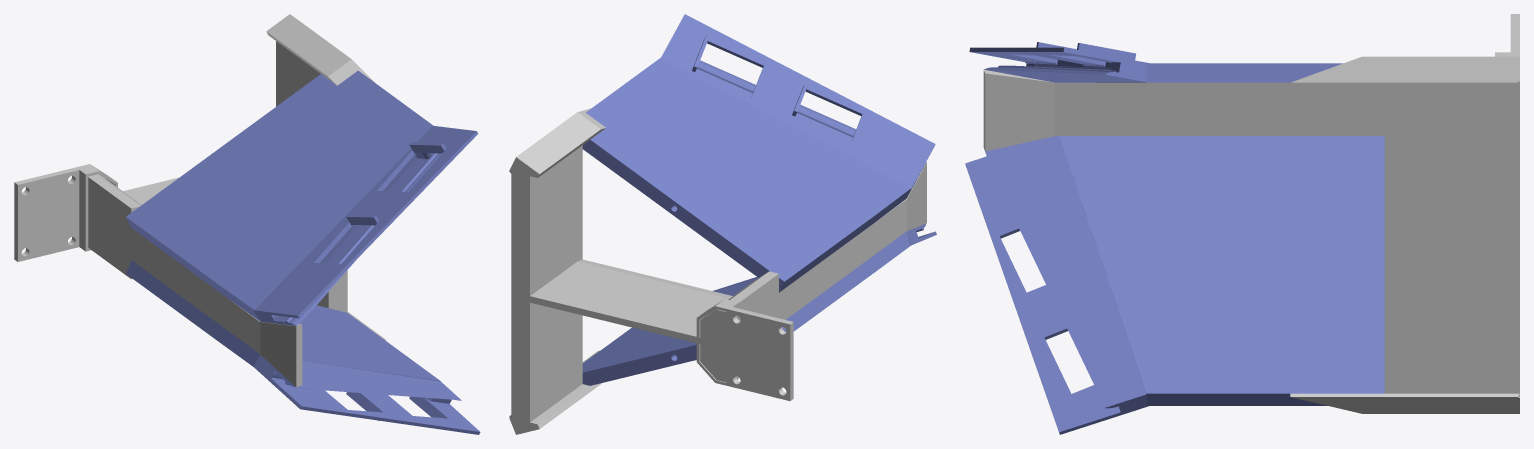
The model's file is Coin Dispenser.gltf.
3 views of the same model, side by side, from view 1: azimuth 30°, elevation 25°; view 2: azimuth 150°, elevation 25°; view 3: azimuth 270°, elevation 25° (orthographic). The views are drawn at different scales.
Visible parts, largest first — view 1: 1&5 F, Base, 10&20 F, Body15; view 2: 1&5 F, Base, 10&20 F, Body15; view 3: 10&20 F, Base, 1&5 F.
Part boxes in pixels (bbox=[...]): 1&5 F: bbox=[126, 70, 478, 325]; Base: bbox=[88, 14, 386, 387]; 10&20 F: bbox=[126, 260, 480, 434]; Body15: bbox=[14, 164, 117, 261]; 1&5 F: bbox=[582, 14, 935, 292]; Base: bbox=[509, 108, 926, 434]; 10&20 F: bbox=[582, 223, 936, 385]; Body15: bbox=[696, 299, 793, 400]; 10&20 F: bbox=[965, 136, 1384, 434]; Base: bbox=[983, 56, 1519, 413]; 1&5 F: bbox=[969, 42, 1342, 82].
Bounding box in the file's own units: 0.1859 × 0.1881 × 0.2443.
